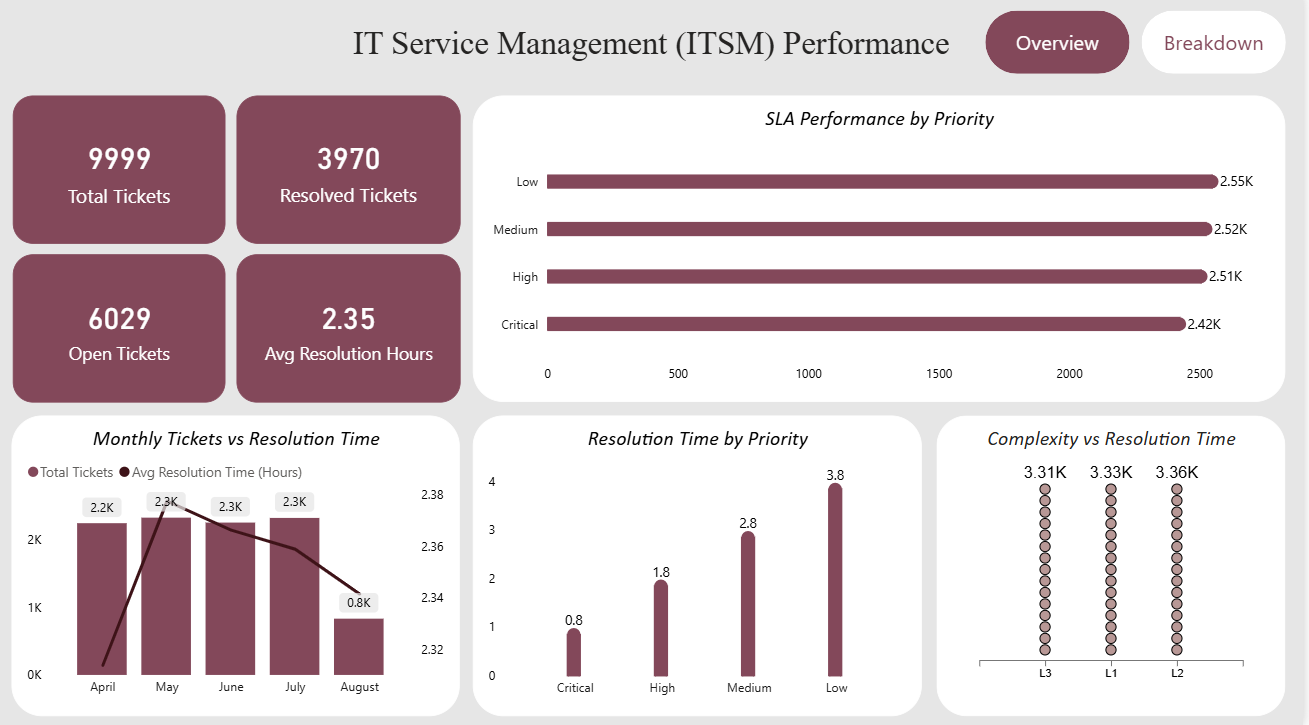

Layout of this report page (visuals, bound fields, positions):
{"tool":"powerbi","page":{"name":"SLA & Resolution Performance","canvas":[1280,720],"ordinal":0},"visuals":[{"type":"textbox","box":[0,17.4,1280.3,62.2],"z":0},{"type":"card","fields":{"Values":["ITSM_fact_table.Total Tickets"]},"box":[13.7,100.8,209,145.6],"z":1000},{"type":"card","fields":{"Values":["ITSM_fact_table.Resolved Tickets"]},"box":[232.7,100.8,220.2,145.6],"z":2000},{"type":"card","title":"Avg Resolu","fields":{"Values":["ITSM_fact_table.Average MTTR (Hours)"]},"box":[232.7,256.3,220.2,145.6],"z":3000},{"type":"card","fields":{"Values":["ITSM_fact_table.Open Tickets"]},"box":[13.7,256.3,209,145.6],"z":4000},{"type":"clusteredBarChart","title":"SLA Performance by Priority","fields":{"Category":["Dim_Priority.Priority"],"Y":["ITSM_fact_table.Total Tickets"]},"box":[465.3,100.8,797.5,301.1],"z":5000},{"type":"clusteredColumnChart","title":"Resolution Time by Priority","fields":{"Category":["Dim_Priority.Priority"],"Y":["ITSM_fact_table.Average MTTR (Hours)"]},"box":[465.3,414.3,440.4,294.9],"z":6000},{"type":"DotPlot1442374105856","title":"Complexity vs Resolution Time","fields":{"Category":["Dim_Support.Support_Level"],"Values":["ITSM_fact_table.Total Tickets"]},"box":[920.7,414.3,342.1,294.9],"z":7000},{"type":"lineStackedColumnComboChart","title":"Monthly Tickets vs Resolution Time","fields":{"Category":["Dim_Date.Date.Variation.Date Hierarchy.Month","Dim_Date.Date.Variation.Date Hierarchy.Day"],"Y":["ITSM_fact_table.Total Tickets"],"Y2":["ITSM_fact_table.Average MTTR (Hours)"]},"box":[12.4,414.3,440,295],"z":8000},{"type":"shape","box":[968,17.4,141.8,62.2],"z":9000},{"type":"shape","box":[1121,17.4,141.8,62.2],"z":10000}]}

Visuals, with their boxes in screenshot pixels (x1, y1, x2, y2), scaled from the page's 1280x720 canvas onto the 1309x725 screenshot:
textbox: BBox(0, 18, 1308, 80)
card - ITSM_fact_table.Total Tickets: BBox(14, 102, 228, 248)
card - ITSM_fact_table.Resolved Tickets: BBox(238, 102, 463, 248)
"Avg Resolu" card: BBox(238, 258, 463, 405)
card - ITSM_fact_table.Open Tickets: BBox(14, 258, 228, 405)
"SLA Performance by Priority" clusteredBarChart: BBox(476, 102, 1291, 405)
"Resolution Time by Priority" clusteredColumnChart: BBox(476, 417, 926, 714)
"Complexity vs Resolution Time" DotPlot1442374105856: BBox(942, 417, 1291, 714)
"Monthly Tickets vs Resolution Time" lineStackedColumnComboChart: BBox(13, 417, 463, 714)
shape: BBox(990, 18, 1135, 80)
shape: BBox(1146, 18, 1291, 80)
